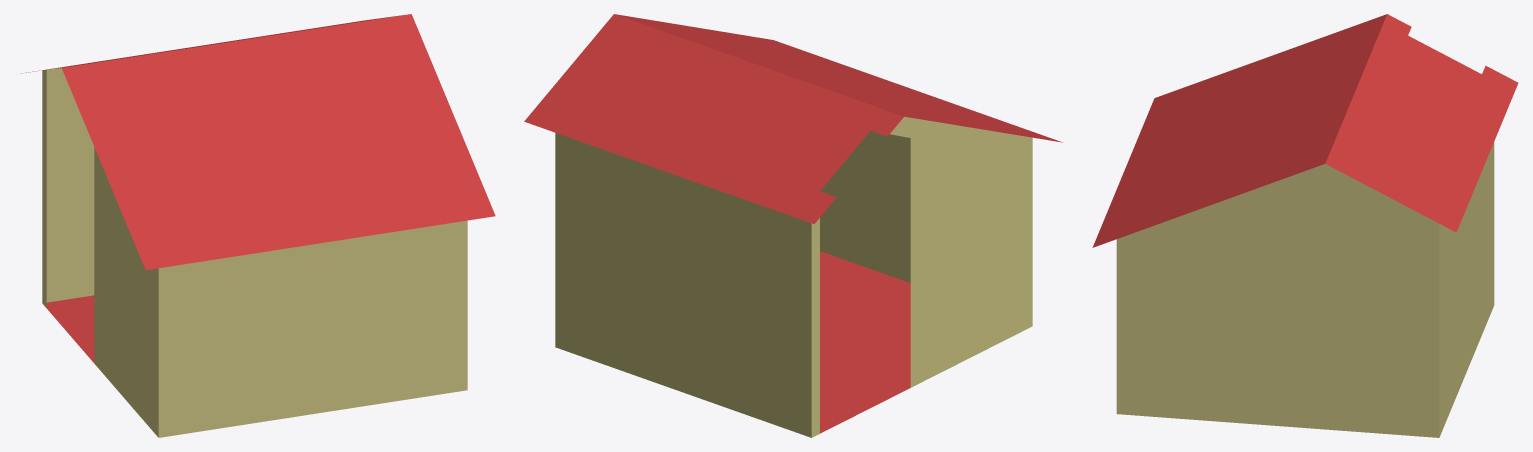
3 renders of one model, left to right at view 1: azimuth 30°, elevation 25°; view 2: azimuth 150°, elevation 25°; view 3: azimuth 270°, elevation 25°, orthographic. The views are drawn at different scales.
Bounding box in the file's own units: 14.88 × 15.17 × 10.79.
